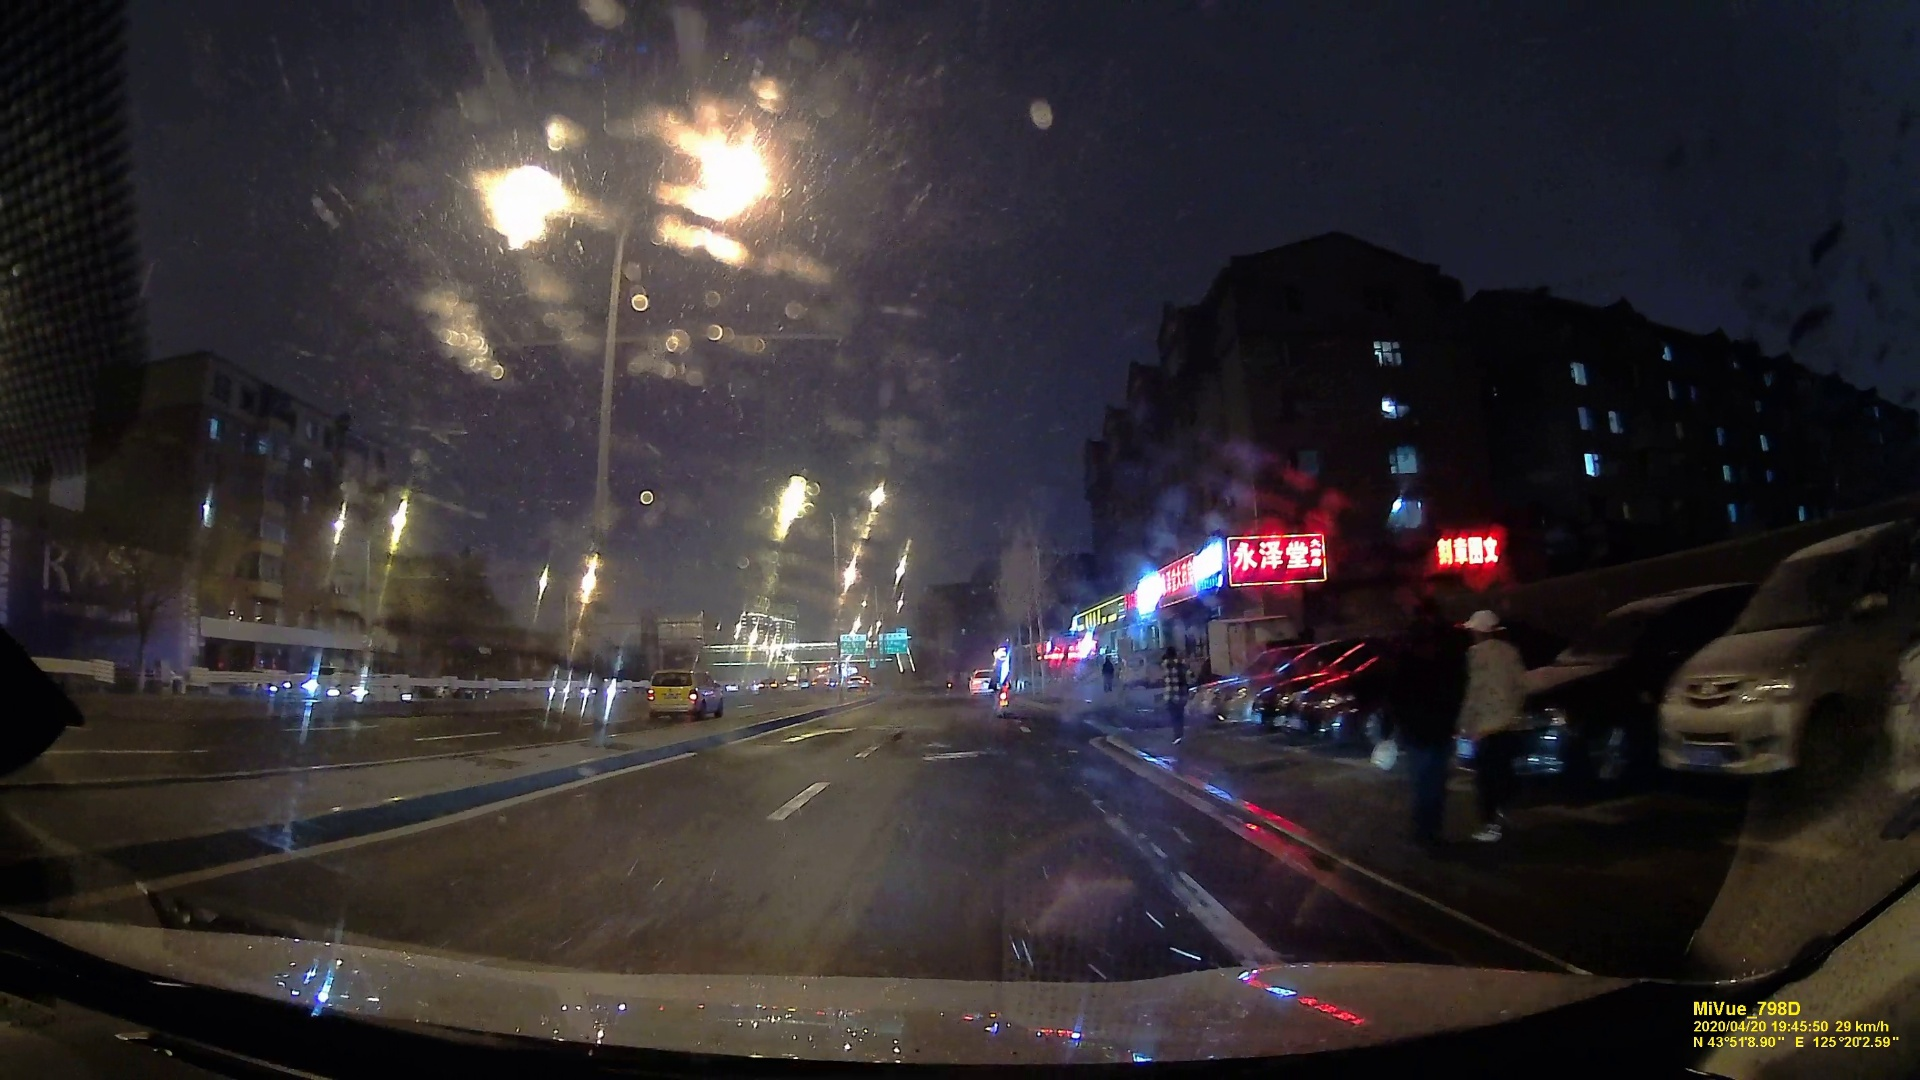person: (1395, 592, 1465, 848), (1456, 612, 1522, 840), (1155, 652, 1187, 744), (1100, 655, 1117, 695)
traffic_sign: (838, 634, 865, 654), (879, 633, 907, 653)
vehicle: (645, 670, 725, 719)
